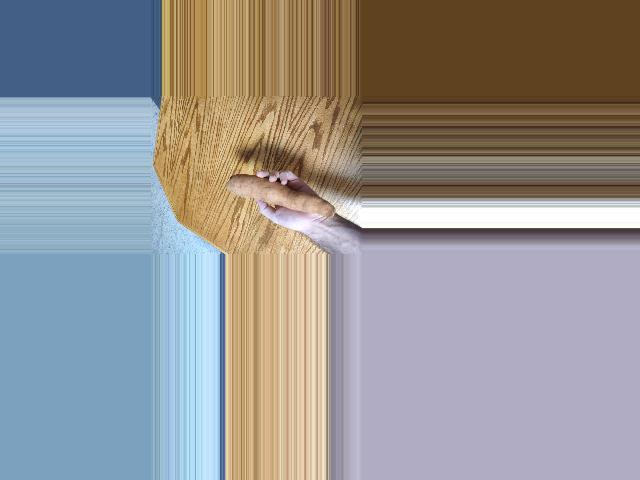sweet_potato: (232, 171, 329, 212)
